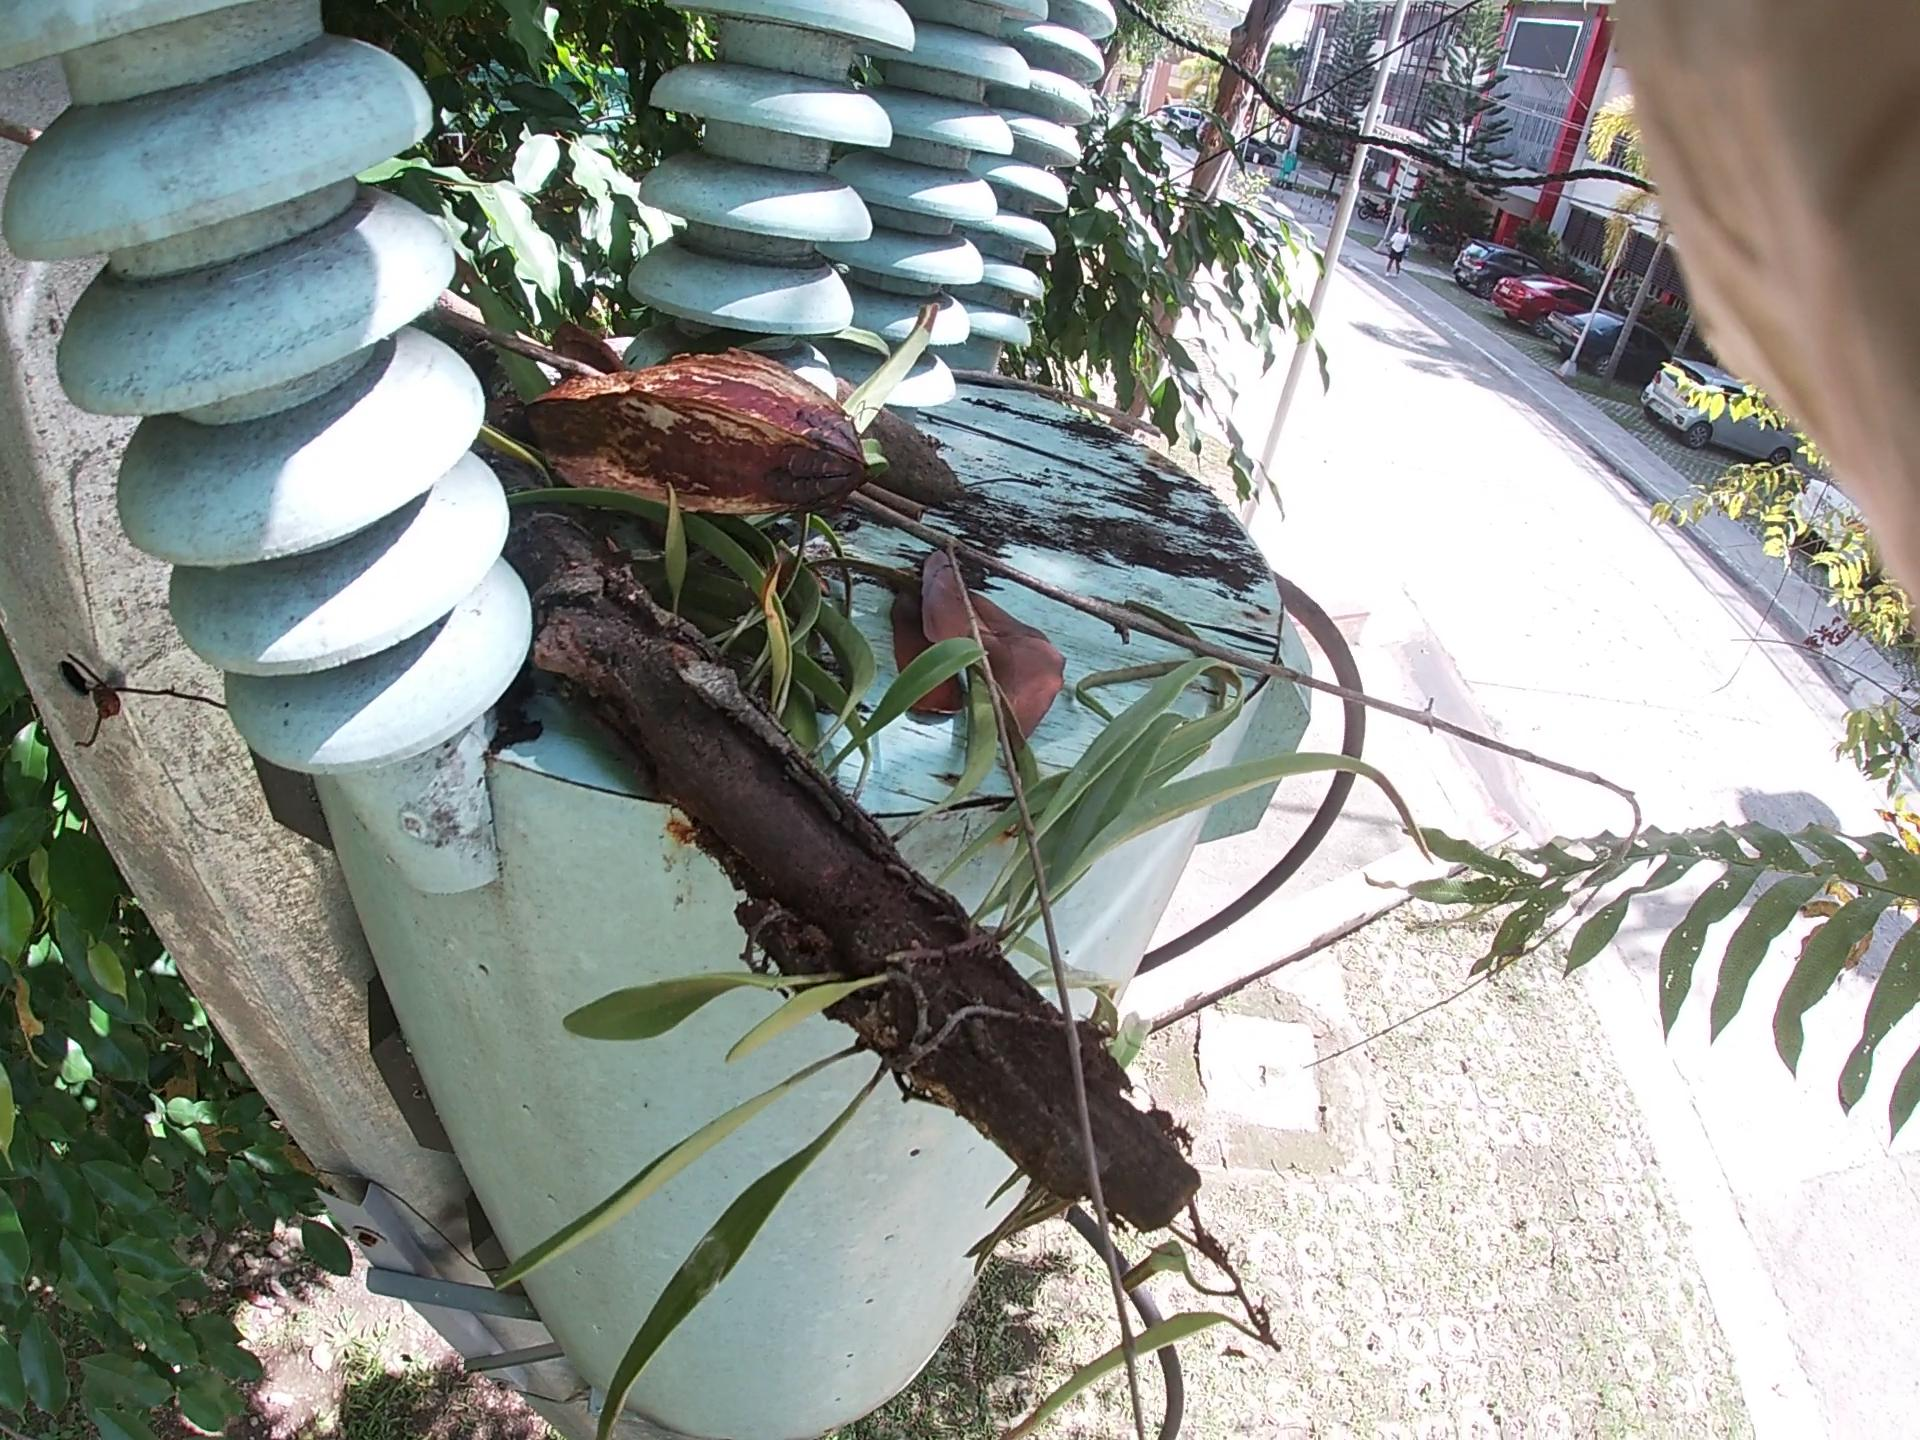branch with leaves: (358, 129, 1179, 1122)
leaf: (803, 473, 1128, 722)
mahogany fruit: (490, 303, 897, 588), (816, 371, 1101, 604)
tree branch: (730, 393, 1645, 924), (868, 266, 1190, 446)
